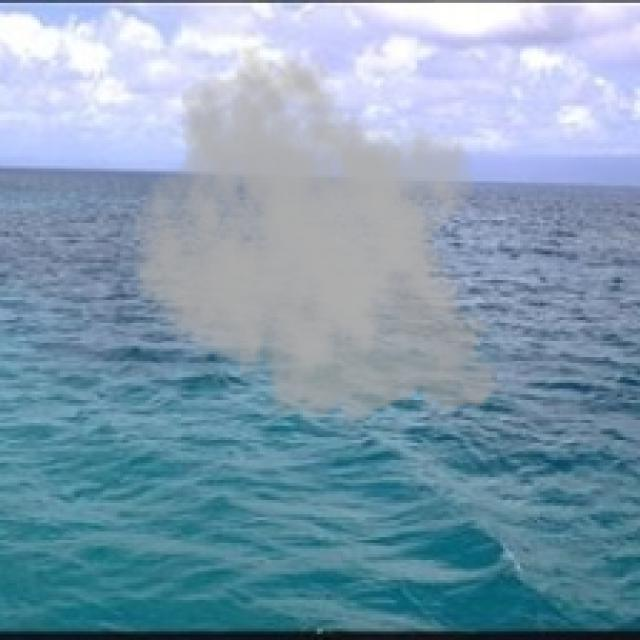smoke: (132, 43, 514, 434)
